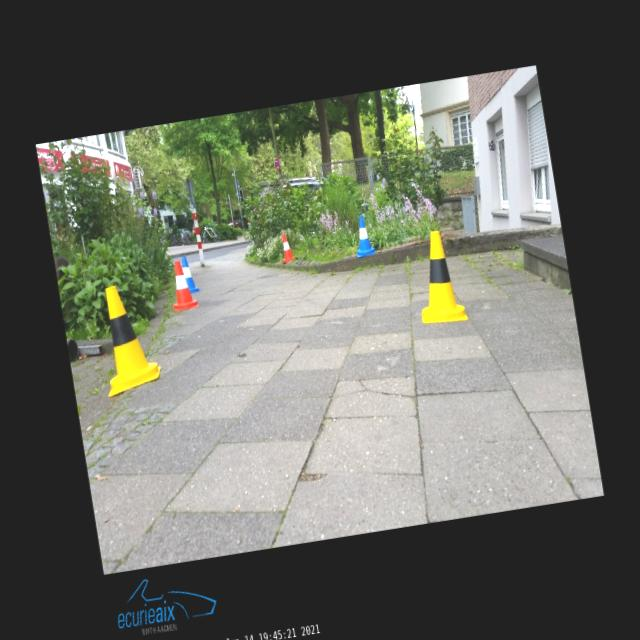blue_cone: (352, 215, 376, 257), (180, 255, 200, 293)
orange_cone: (167, 259, 199, 311), (279, 234, 295, 262)
yellow_cone: (92, 282, 164, 396), (409, 229, 468, 327)
